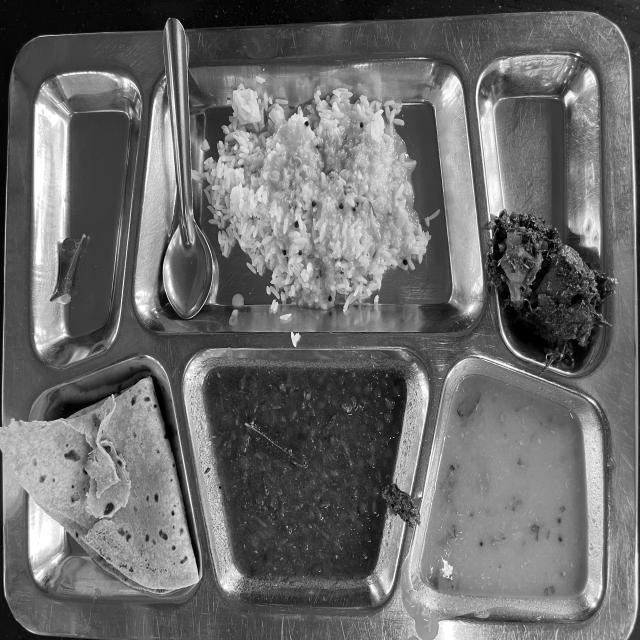Full-Plate: (20, 47, 618, 614)
